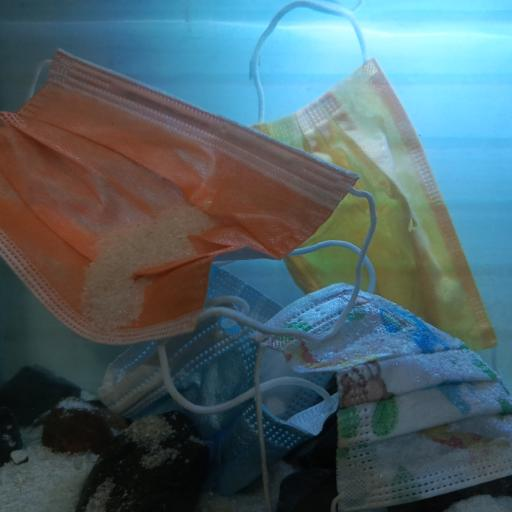mask: (0, 46, 361, 346), (248, 56, 500, 352), (253, 280, 512, 512), (96, 263, 340, 495)
